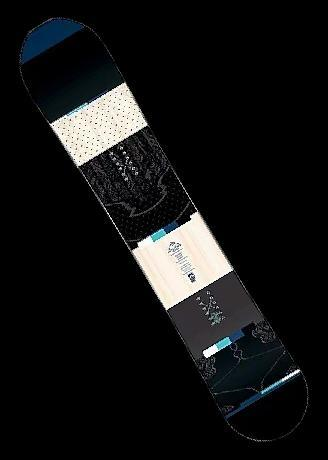Snowboard: (18, 16, 309, 443)
